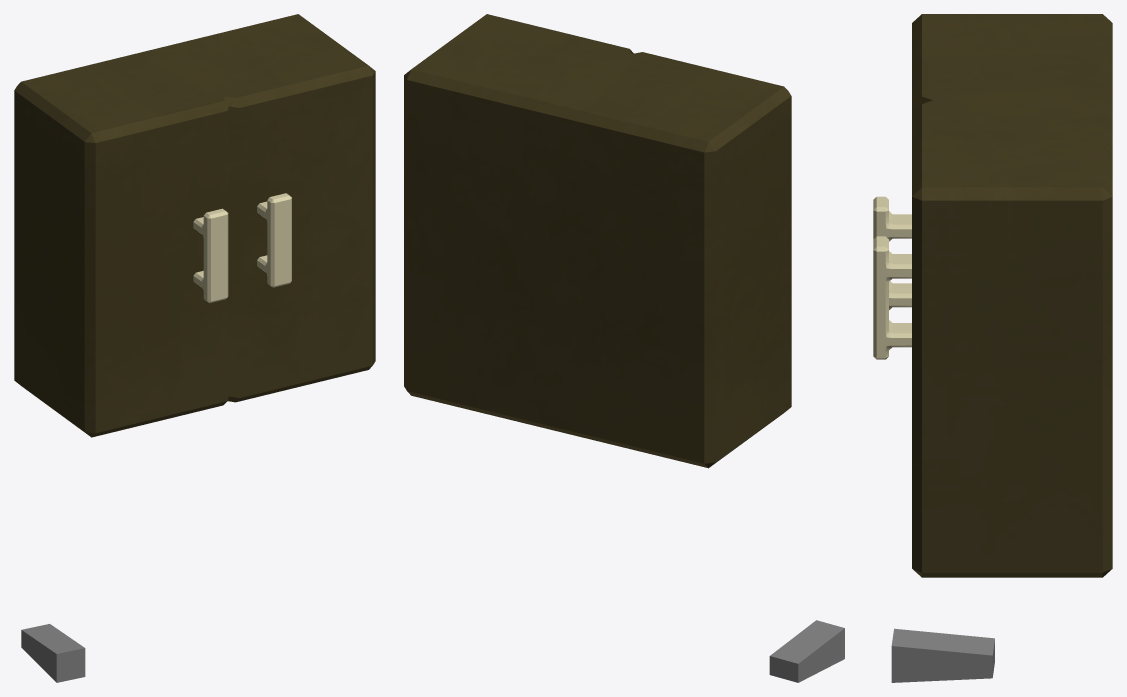
File: medicine cabinet.fbx
3 views of the same model, side by side, from view 1: azimuth 30°, elevation 25°; view 2: azimuth 150°, elevation 25°; view 3: azimuth 270°, elevation 25° (orthographic). The views are drawn at different scales.
Parts seen in each view (by area): view 1: polySurface566; view 2: polySurface566; view 3: polySurface566.
Part boxes in pixels (<box>): polySurface566: <box>14,14,375,682</box>; polySurface566: <box>404,14,844,682</box>; polySurface566: <box>873,14,1112,682</box>.
Size of the model in its own units: 0.6528 by 1 by 0.3203.
1 material, 1 textured.
